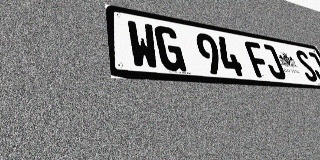4: (214, 35, 245, 76)
9: (194, 32, 226, 75)
F: (243, 40, 273, 78)
G: (153, 25, 187, 72)
J: (259, 43, 287, 80), (305, 51, 320, 83)
S: (293, 49, 320, 82)
W: (126, 20, 161, 70)
